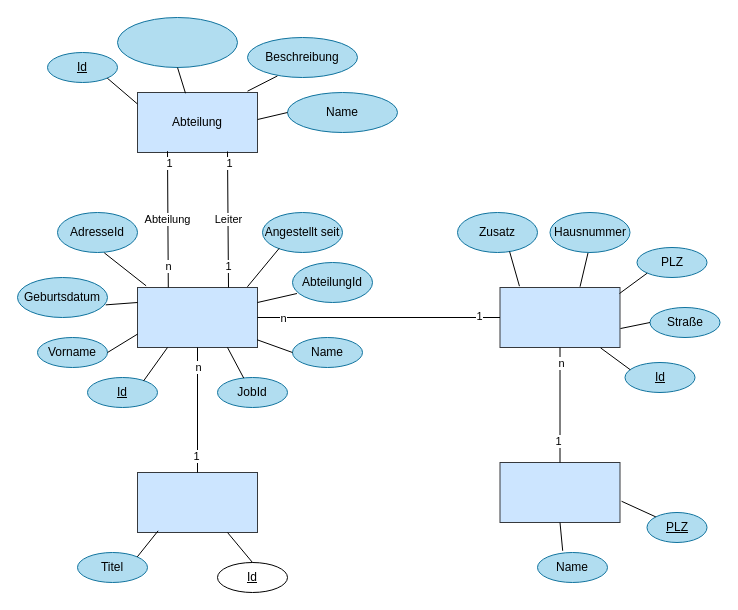
The diagram is 738 pixels wide and 610 high, and some of its shapes have lost their labels. Each missing label, with the centre of its shape:
"Adresse" belongs at point (559, 317).
"Job" belongs at point (197, 502).
"LeiterId (MitarbeiterId)" belongs at point (177, 42).
"Mitarbeiter" belongs at point (197, 317).
"Ort" belongs at point (559, 492).
